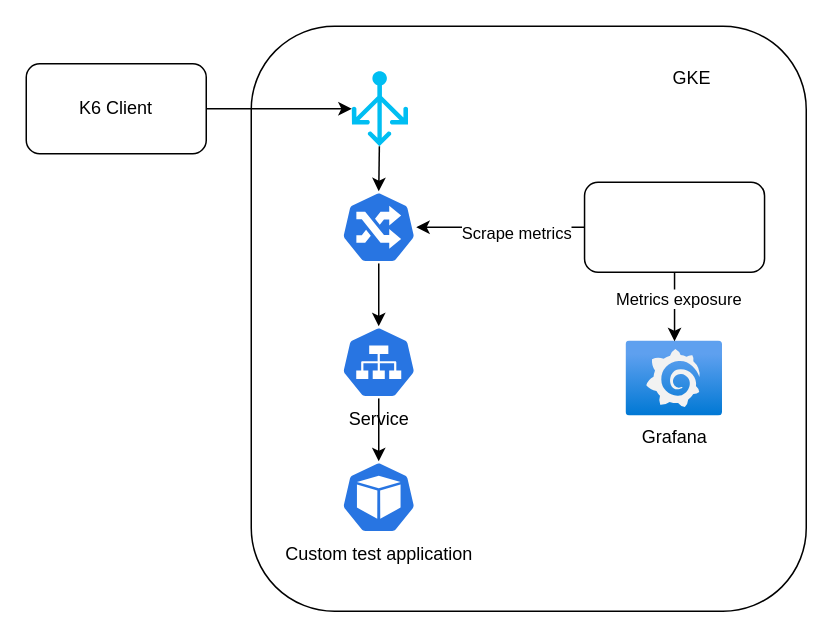
Some shapes in this 833 by 638 pixel diagram are drawn without their labels. The shapes that lost their labels are listed below. From the top down, each one's centre as x and y in pixels, then its label:
At point 379,108: "Load balancer".
At point 378,226: "Traefik - ingress controller".
At point 674,226: "Prometheus".
